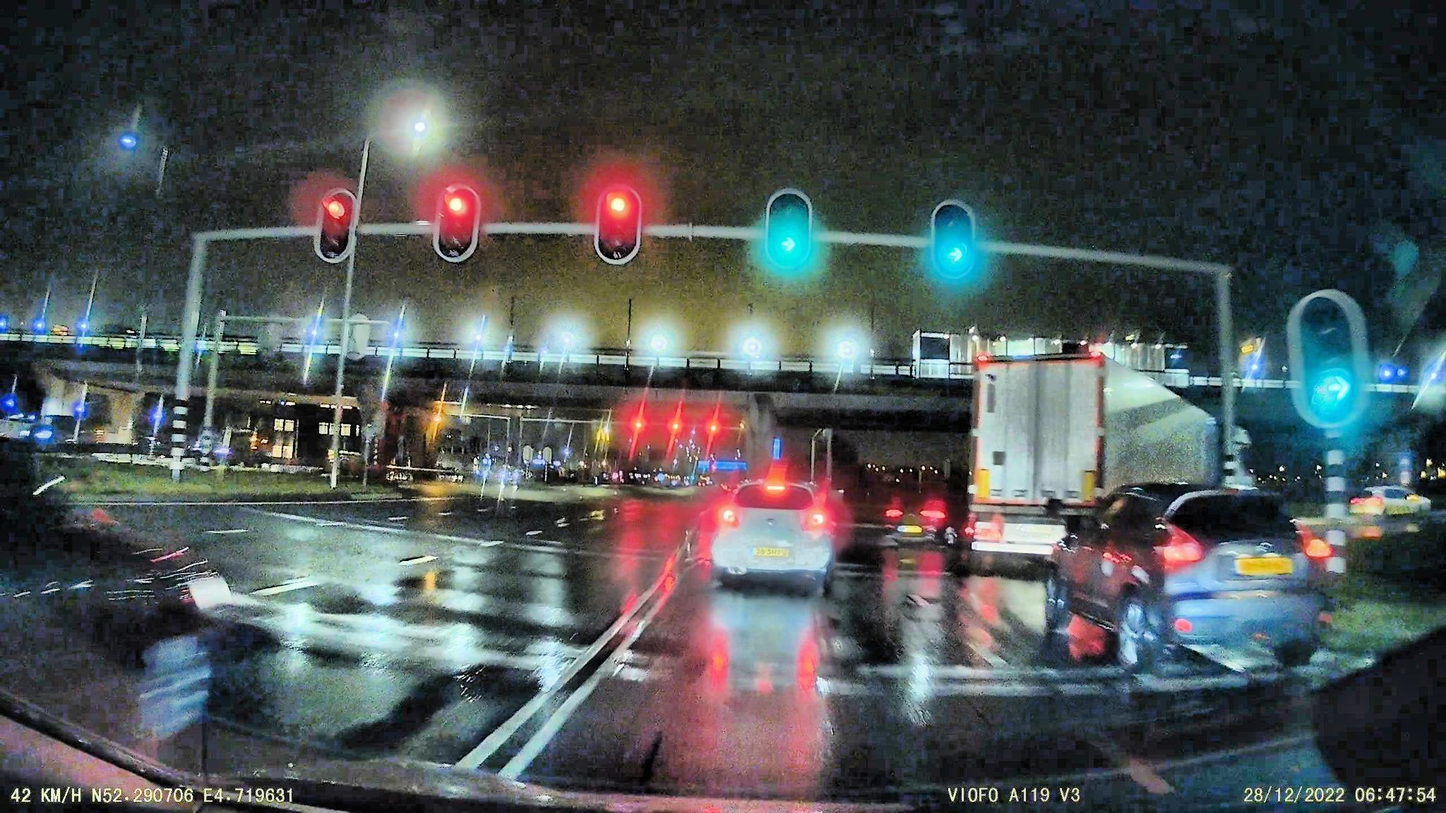Roads: (214, 501, 1327, 797)
